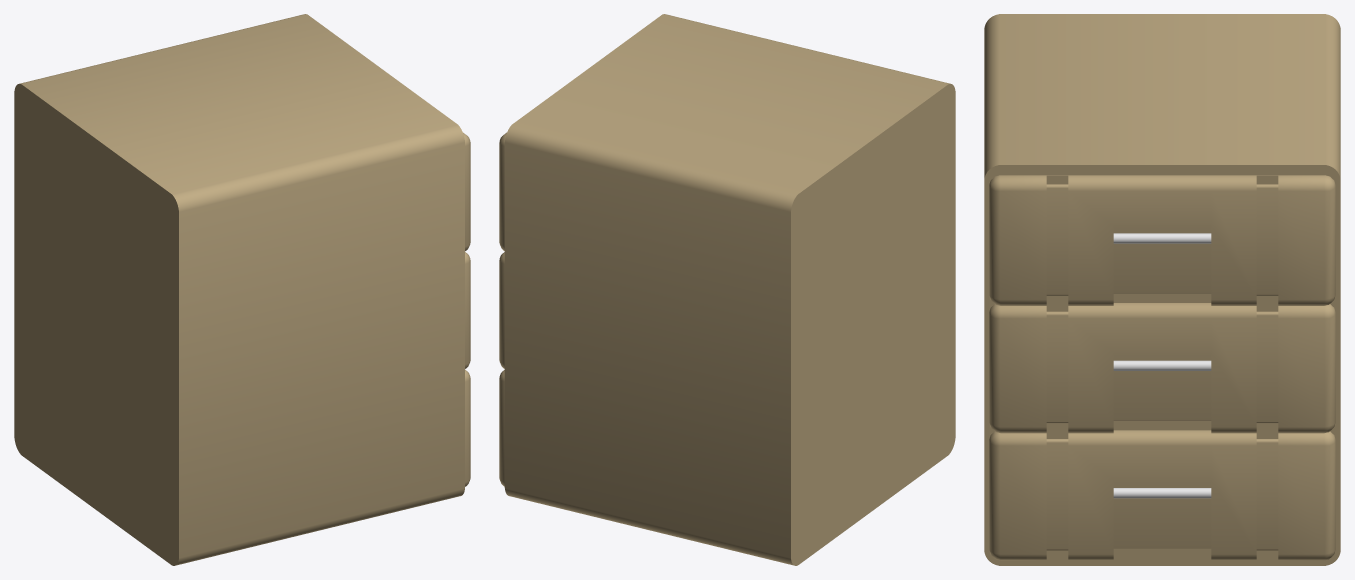
File: Schubladen.fbx
The picture shows the model from 3 angles, left to right: view 1: azimuth 30°, elevation 25°; view 2: azimuth 150°, elevation 25°; view 3: azimuth 270°, elevation 25°; orthographic projection. The views are drawn at different scales.
Parts seen in each view (by area): view 1: Box003, ChamferBox002, ChamferBox003, ChamferBox004; view 2: Box003, ChamferBox002, ChamferBox003, ChamferBox004; view 3: Box003, ChamferBox002, ChamferBox004, ChamferBox003, Cylinder002, Cylinder003, Cylinder004.
Boxes of the visible parts, left/top/right/bottom form: Box003: left=14, top=14, right=464, bottom=565; ChamferBox002: left=463, top=132, right=470, bottom=251; ChamferBox003: left=465, top=252, right=470, bottom=368; ChamferBox004: left=465, top=370, right=470, bottom=486; Box003: left=504, top=14, right=955, bottom=565; ChamferBox002: left=499, top=132, right=506, bottom=250; ChamferBox003: left=499, top=252, right=504, bottom=368; ChamferBox004: left=499, top=370, right=504, bottom=486; Box003: left=984, top=14, right=1340, bottom=565; ChamferBox002: left=989, top=175, right=1335, bottom=305; ChamferBox004: left=989, top=430, right=1335, bottom=560; ChamferBox003: left=989, top=303, right=1335, bottom=433; Cylinder002: left=1113, top=233, right=1211, bottom=243; Cylinder003: left=1113, top=360, right=1211, bottom=370; Cylinder004: left=1113, top=488, right=1211, bottom=498.
Bounding box in the file's own units: 41.44 × 49.39 × 39.74.
